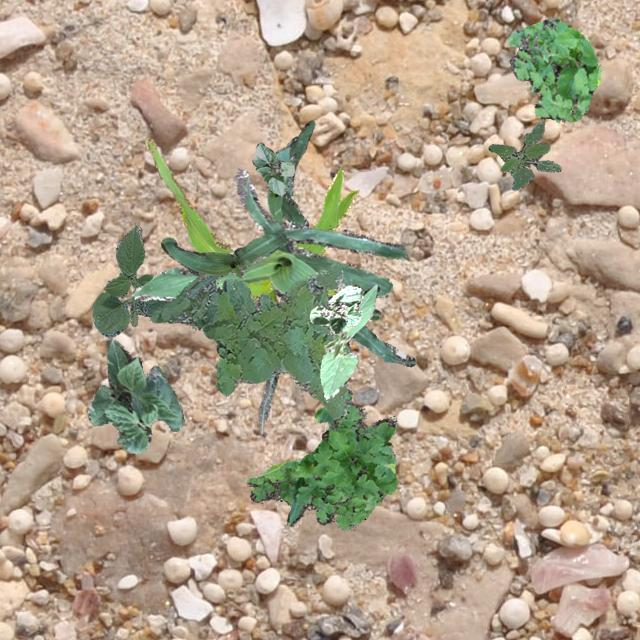crop: (130, 168, 406, 308), (145, 136, 357, 302), (256, 308, 414, 432), (86, 340, 184, 452), (91, 224, 170, 336), (160, 232, 288, 298), (318, 284, 378, 398), (266, 120, 314, 228), (308, 284, 362, 334), (252, 142, 292, 194)
weed: (150, 262, 348, 418), (246, 388, 396, 528), (506, 18, 600, 120), (488, 119, 560, 190)
